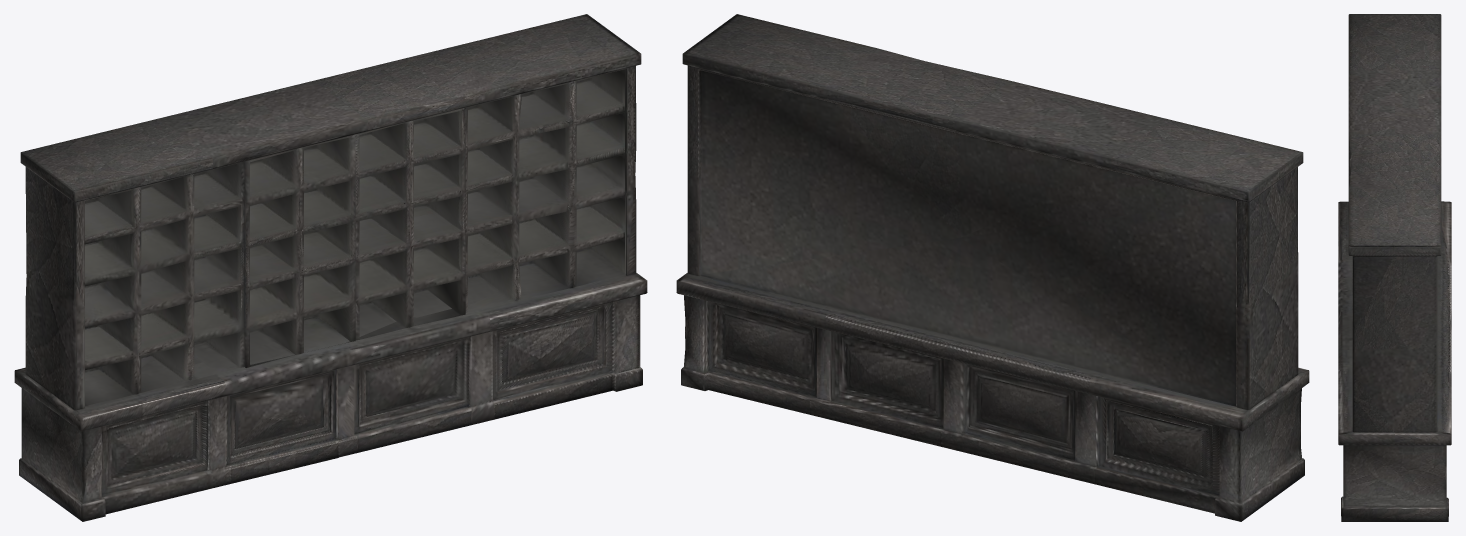
File: post+office+pigeon+holes+3d+model.glb
3 views of the same model, side by side, from view 1: azimuth 30°, elevation 25°; view 2: azimuth 150°, elevation 25°; view 3: azimuth 270°, elevation 25° (orthographic). The views are drawn at different scales.
Visible parts, largest first — view 1: tripo_node_807a78be-2370-4438-9c4e-52e13d9caa5e; view 2: tripo_node_807a78be-2370-4438-9c4e-52e13d9caa5e; view 3: tripo_node_807a78be-2370-4438-9c4e-52e13d9caa5e.
Part boxes in pixels (x1,y1,x2,y2): tripo_node_807a78be-2370-4438-9c4e-52e13d9caa5e: [14, 14, 647, 521]; tripo_node_807a78be-2370-4438-9c4e-52e13d9caa5e: [676, 14, 1309, 521]; tripo_node_807a78be-2370-4438-9c4e-52e13d9caa5e: [1338, 14, 1451, 521].
Bounding box in the file's own units: 0.9995 × 0.5522 × 0.2046.
1 material, 1 textured.
